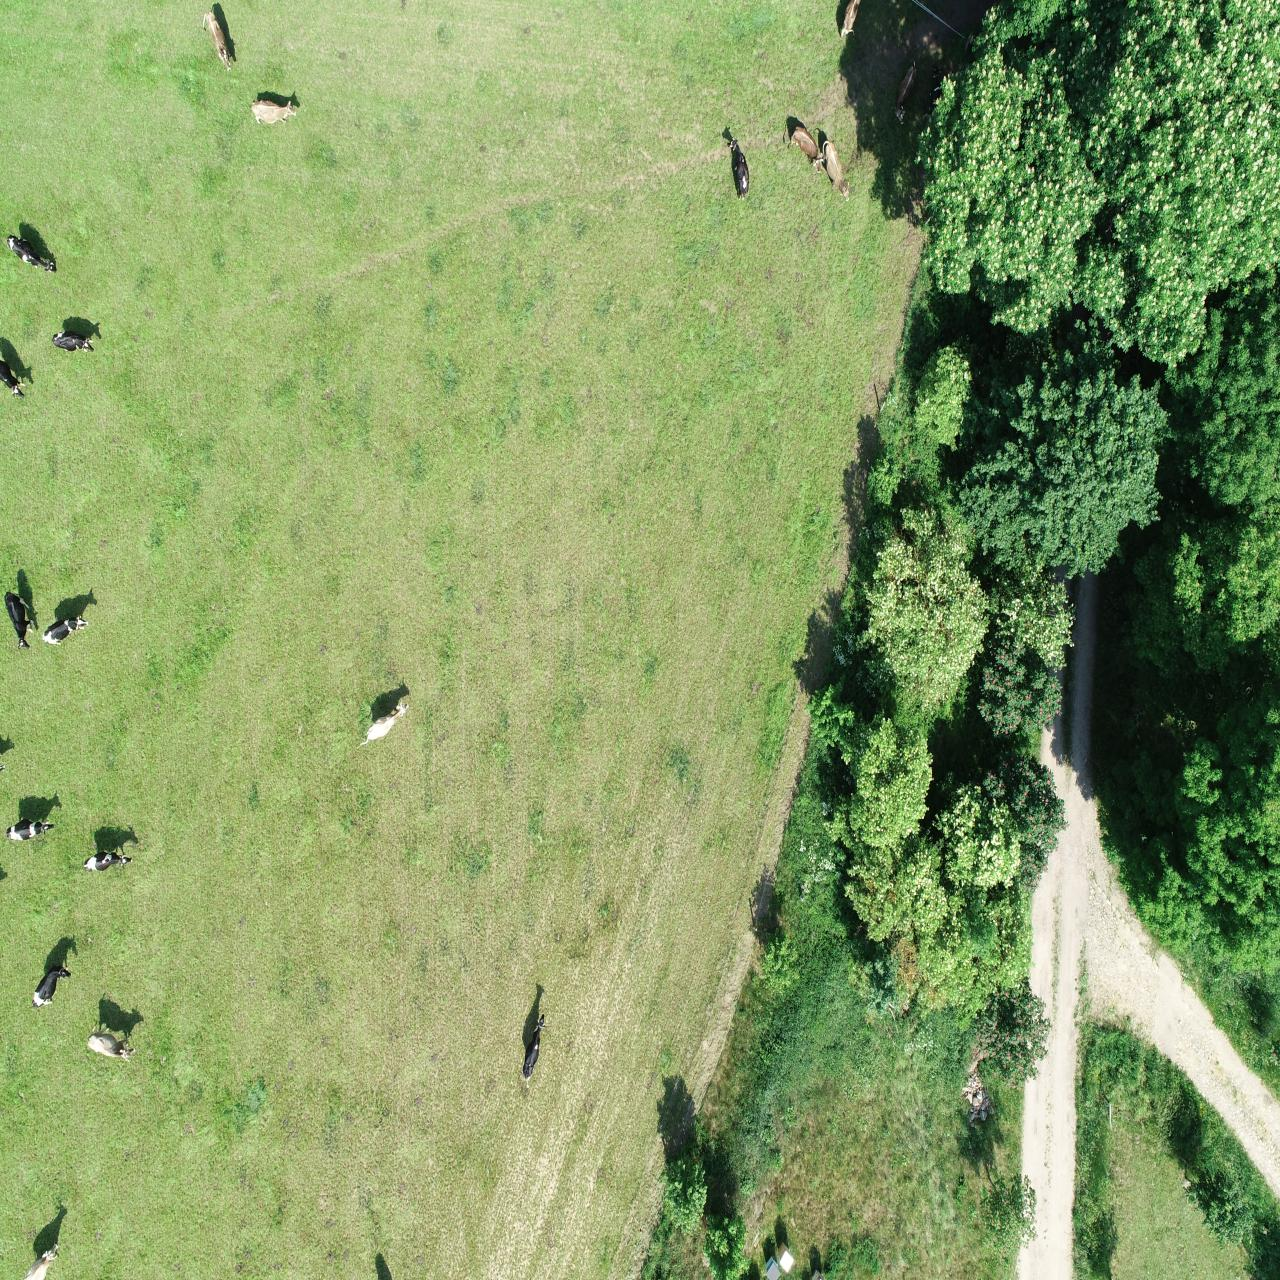cow: (354, 700, 409, 753), (86, 1019, 139, 1065), (5, 232, 57, 278), (199, 9, 233, 75), (522, 1010, 549, 1092), (1, 587, 34, 651), (30, 965, 72, 1010), (41, 613, 89, 648), (248, 96, 300, 127), (49, 327, 97, 358), (728, 137, 750, 203), (83, 850, 134, 872), (5, 817, 56, 837)
